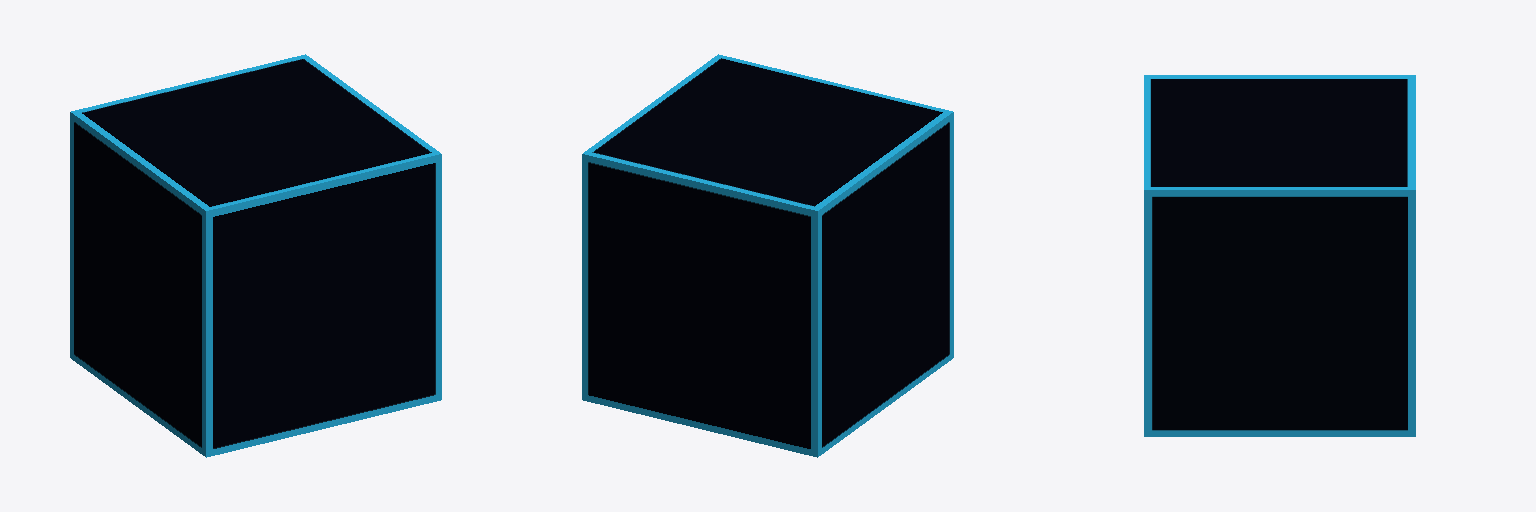
3 views of the same model, side by side, from view 1: azimuth 30°, elevation 25°; view 2: azimuth 150°, elevation 25°; view 3: azimuth 270°, elevation 25° (orthographic).
Parts seen in each view (by area): view 1: Cube; view 2: Cube; view 3: Cube.
Boxes of the visible parts, x1,y1,x2,y2 form: Cube: [70, 54, 441, 457]; Cube: [582, 54, 953, 457]; Cube: [1144, 75, 1415, 436].
Bounding box in the file's own units: 0.9968 × 0.9968 × 0.9968.
Materials: 1 (1 with a texture image).